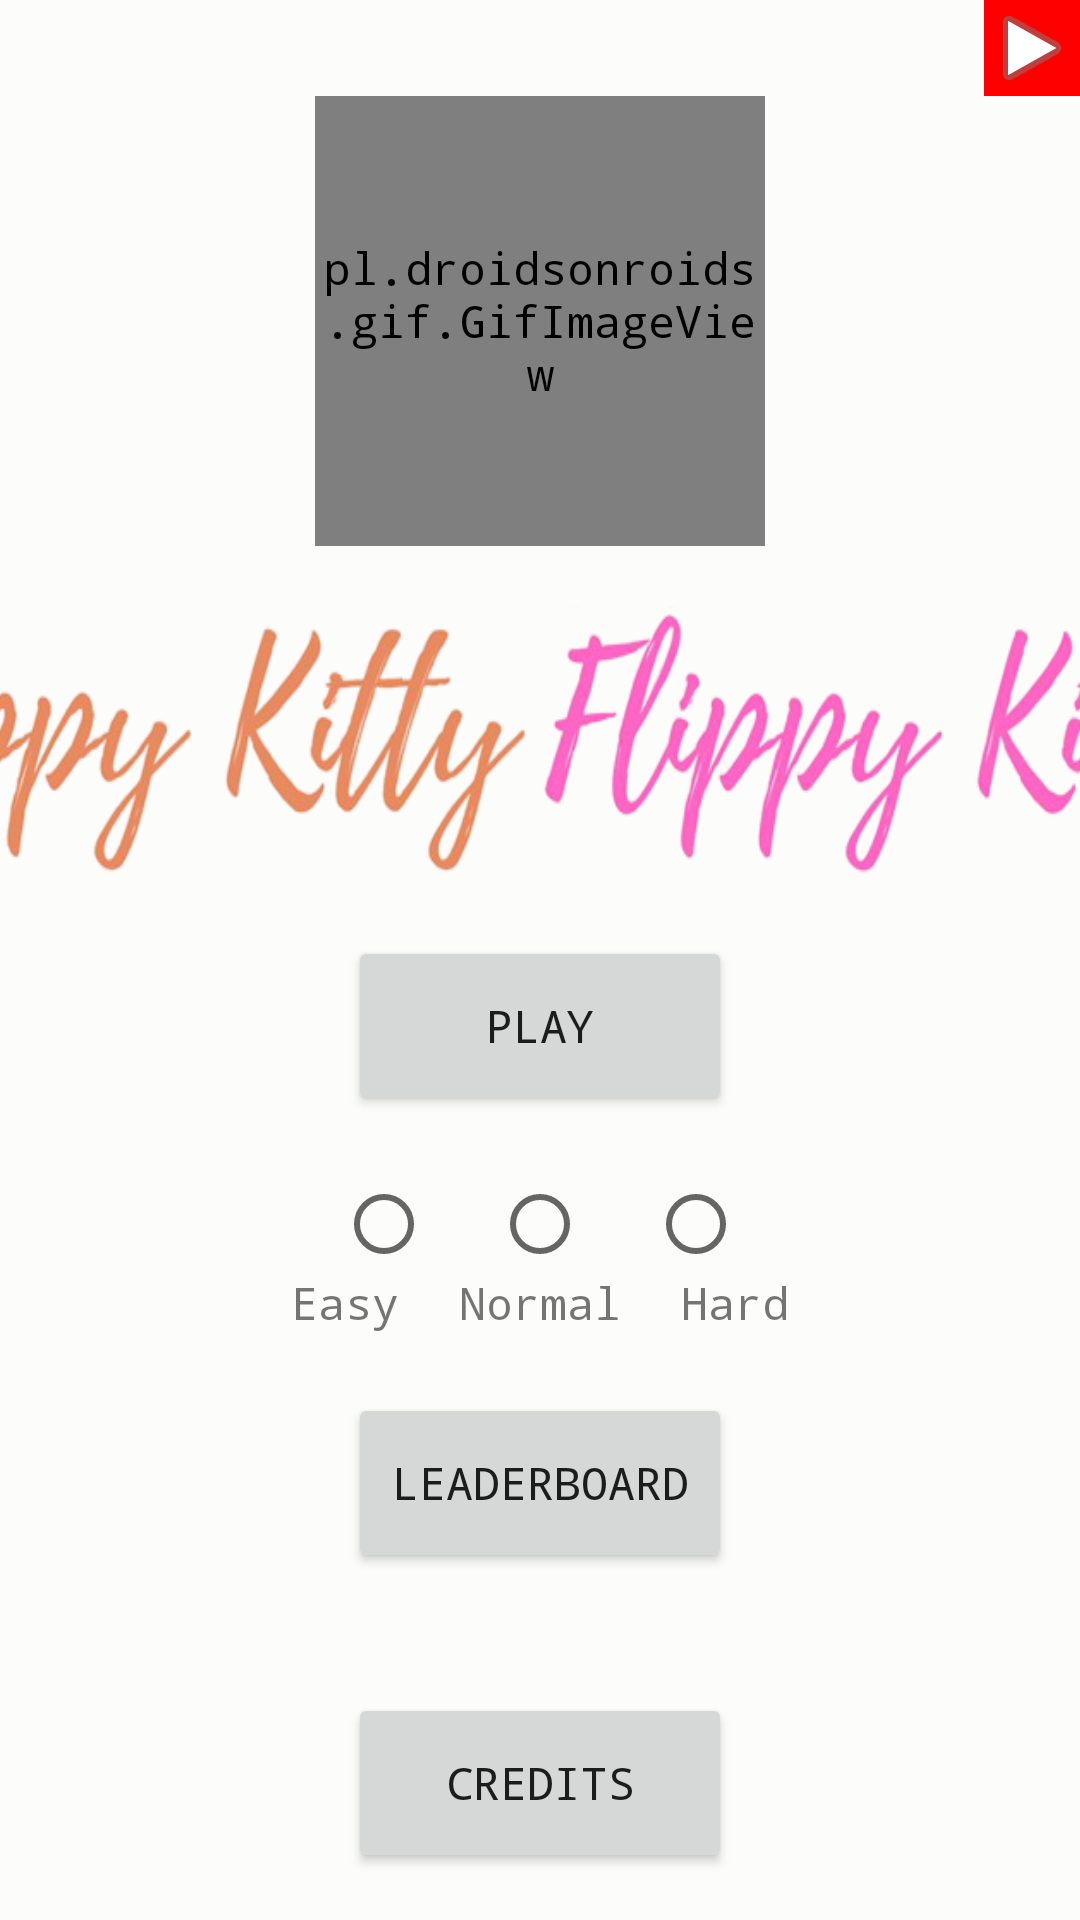

Icons on this 1080w x 1920h Android screen, each with the point to tap as [x,y]:
play: [1032,48]
